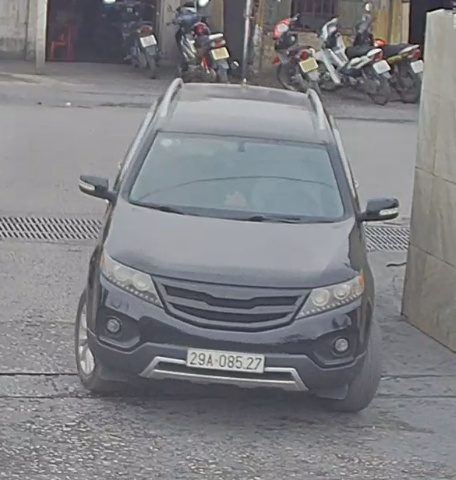vehicle plate: (181, 343, 268, 381)
